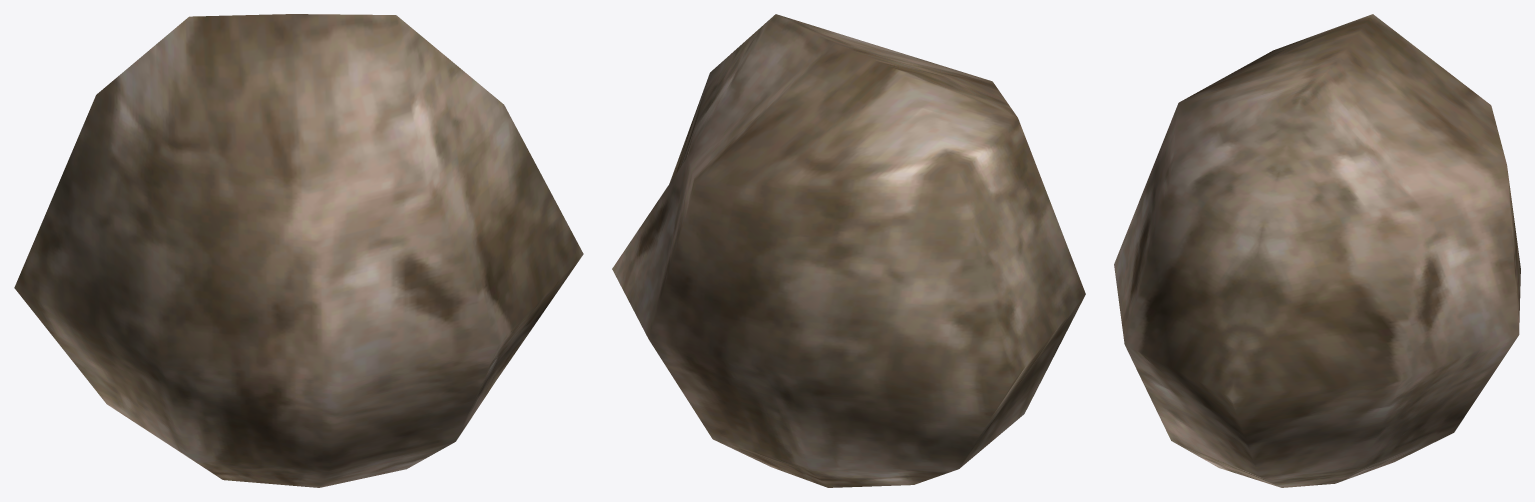
File: OVERHILL_A_01_ROCK78.fbx
3 views of the same model, side by side, from view 1: azimuth 30°, elevation 25°; view 2: azimuth 150°, elevation 25°; view 3: azimuth 270°, elevation 25° (orthographic). The views are drawn at different scales.
Visible parts, largest first — view 1: OVERHILL_A_01_ROCK78; view 2: OVERHILL_A_01_ROCK78; view 3: OVERHILL_A_01_ROCK78.
Boxes of the visible parts, <box> form: OVERHILL_A_01_ROCK78: <box>14,14,583,487</box>; OVERHILL_A_01_ROCK78: <box>612,14,1085,487</box>; OVERHILL_A_01_ROCK78: <box>1114,14,1520,487</box>.
Size of the model in its own units: 13545 by 11903 by 11164.
1 material, 1 textured.
